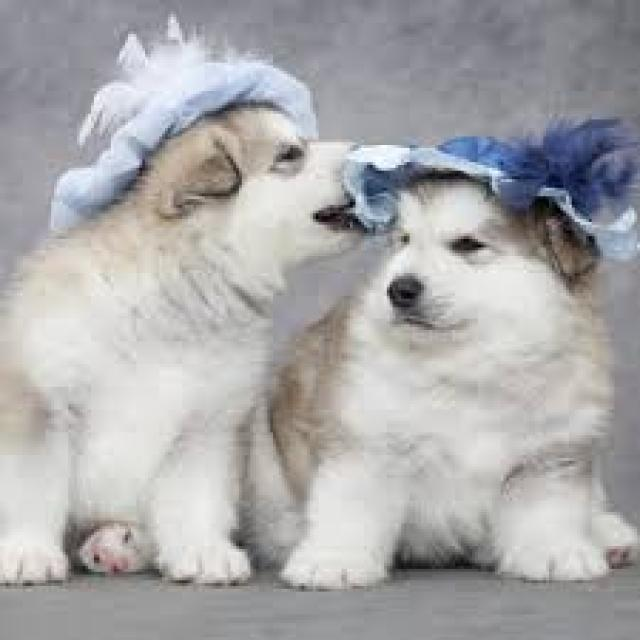ALASKAN_MALAMUTE: (0, 14, 364, 603), (261, 129, 640, 602)
